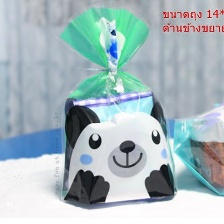snack: (50, 0, 185, 211)
